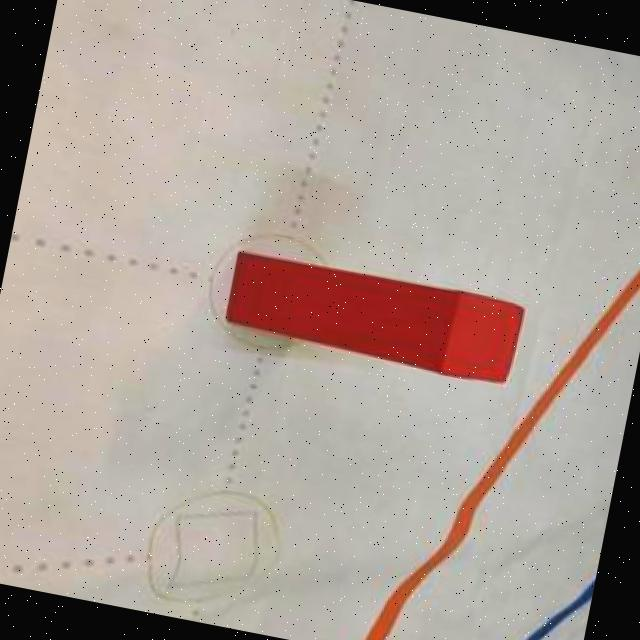redbox: (220, 248, 530, 388)
